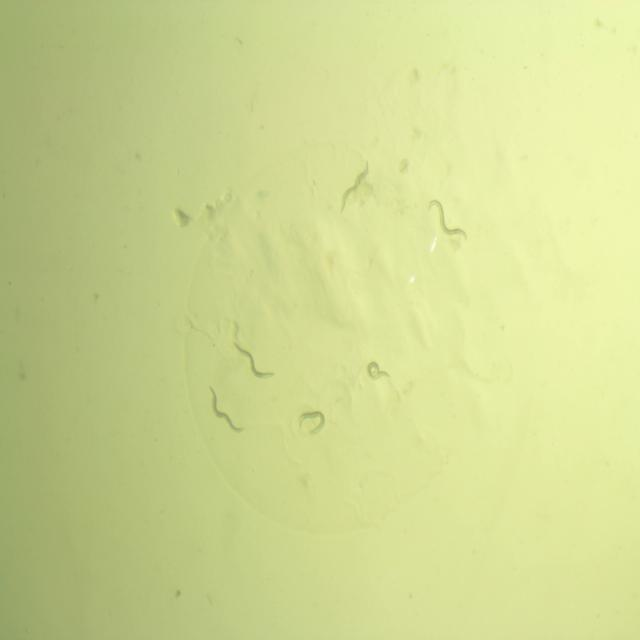worm: (229, 338, 280, 384), (205, 384, 248, 437), (336, 157, 371, 219), (425, 196, 469, 245), (294, 408, 328, 440), (366, 356, 394, 386)
